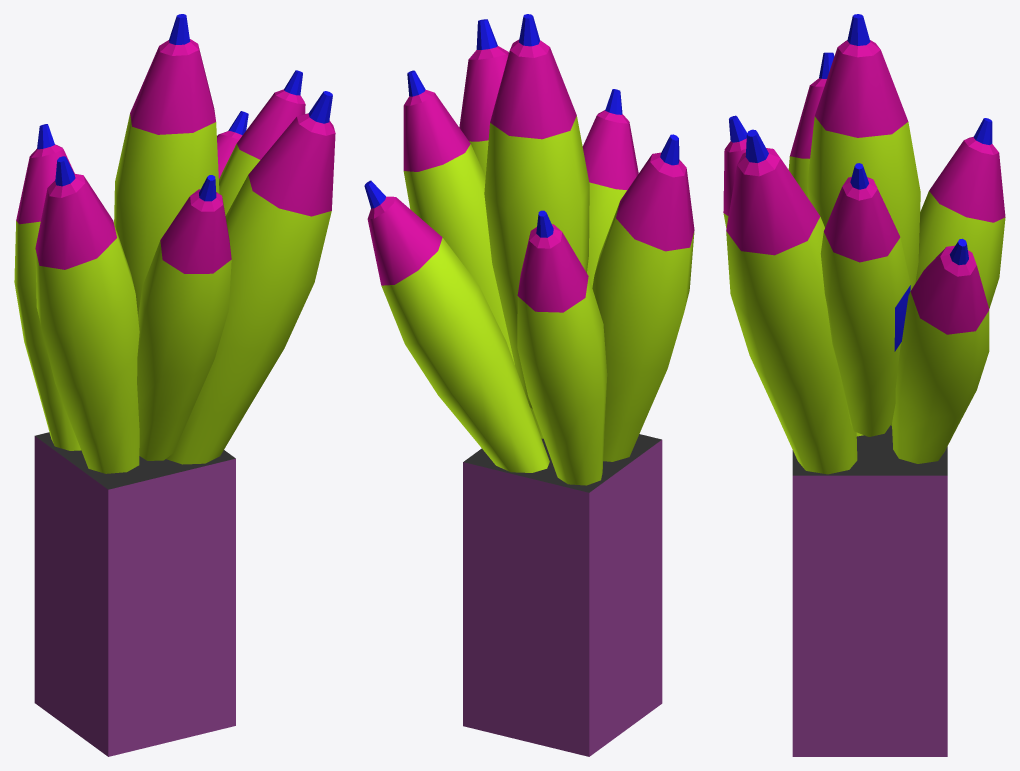
Rendered from plantes_seins.FBX.
3 renders of one model, left to right at view 1: azimuth 30°, elevation 25°; view 2: azimuth 150°, elevation 25°; view 3: azimuth 270°, elevation 25°, orthographic. The views are drawn at different scales.
Visible parts, largest first — view 1: plantes sein012, pot d'arbuste unity016; view 2: plantes sein012, pot d'arbuste unity016; view 3: plantes sein012, pot d'arbuste unity016.
Boxes of the visible parts, x1=… form: plantes sein012: x1=14, y1=14, x2=335, y2=473; pot d'arbuste unity016: x1=34, y1=432, x2=235, y2=756; plantes sein012: x1=364, y1=14, x2=694, y2=485; pot d'arbuste unity016: x1=463, y1=434, x2=662, y2=756; plantes sein012: x1=723, y1=14, x2=1005, y2=474; pot d'arbuste unity016: x1=792, y1=425, x2=947, y2=756.
Size of the model in its own units: 68.79 by 165 by 57.88.
